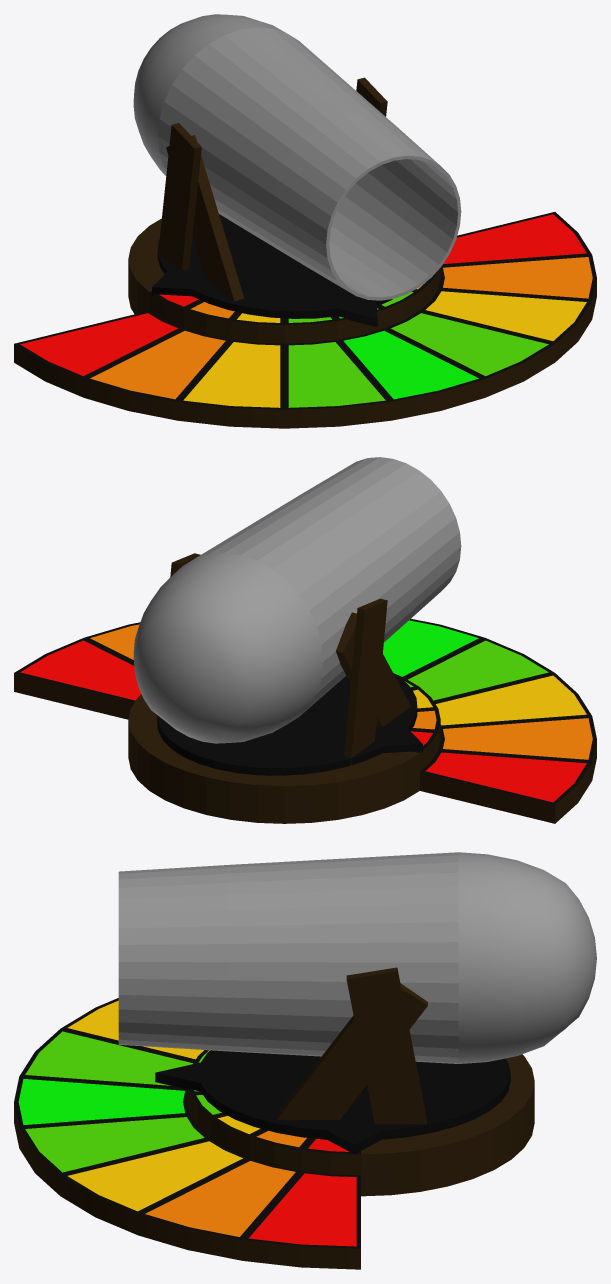
Rendered from Mortar.FBX.
3 renders of one model, top to bottom at view 1: azimuth 30°, elevation 25°; view 2: azimuth 150°, elevation 25°; view 3: azimuth 270°, elevation 25°, orthographic. The views are drawn at different scales.
Parts seen in each view (by area): view 1: Cannon base, Mortar, Mortor base, Box001; view 2: Mortar, Cannon base, Mortor base, Box001; view 3: Mortar, Cannon base, Mortor base, Box001.
Boxes of the visible parts, left/top/right/bottom form: Cannon base: left=14, top=212, right=596, bottom=428; Mortar: left=133, top=14, right=461, bottom=300; Mortor base: left=152, top=214, right=392, bottom=327; Box001: left=157, top=77, right=387, bottom=301; Mortar: left=133, top=457, right=461, bottom=743; Cannon base: left=14, top=619, right=596, bottom=823; Mortor base: left=157, top=673, right=422, bottom=775; Box001: left=170, top=553, right=410, bottom=765; Mortar: left=118, top=852, right=596, bottom=1063; Cannon base: left=14, top=998, right=534, bottom=1269; Mortor base: left=155, top=1050, right=510, bottom=1154; Box001: left=277, top=967, right=427, bottom=1124.
Size of the model in its own units: 291 by 127 by 244.
